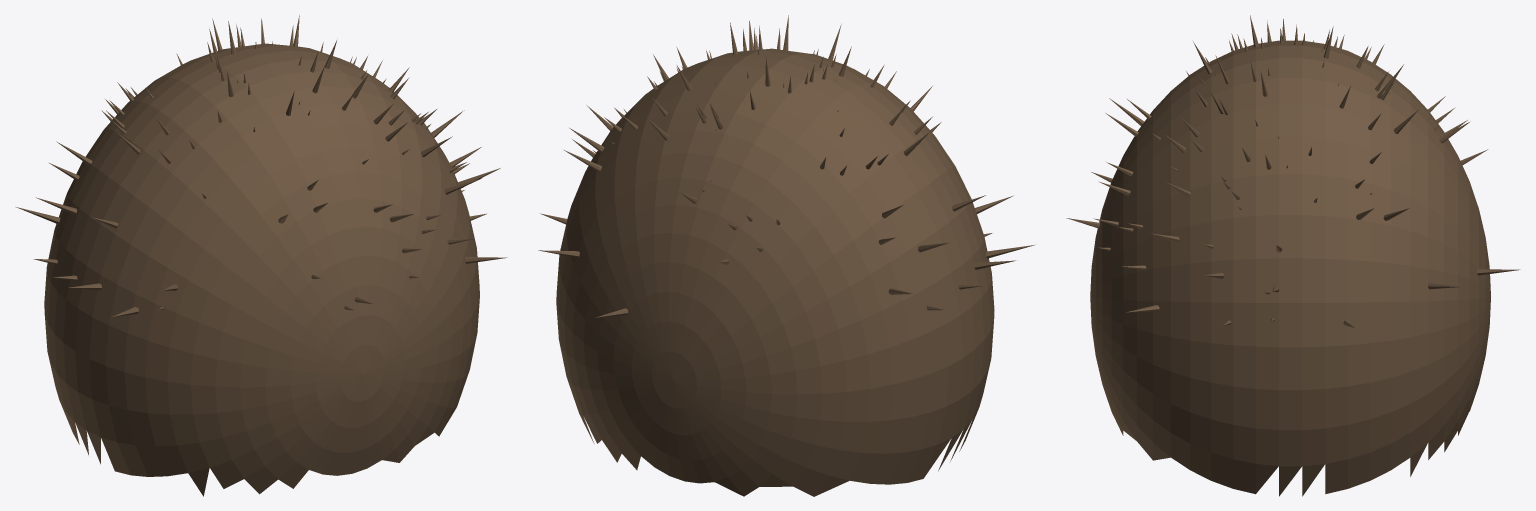
The model's file is close_crop.glb.
3 views of the same model, side by side, from view 1: azimuth 30°, elevation 25°; view 2: azimuth 150°, elevation 25°; view 3: azimuth 270°, elevation 25° (orthographic).
Visible parts, largest first — view 1: part_000; view 2: part_000; view 3: part_000.
Part boxes in pixels (<box>): part_000: <box>44,43,479,496</box>; part_000: <box>556,48,994,496</box>; part_000: <box>1090,40,1490,496</box>.
Bounding box in the file's own units: 0.2337 × 0.2034 × 0.2162.
